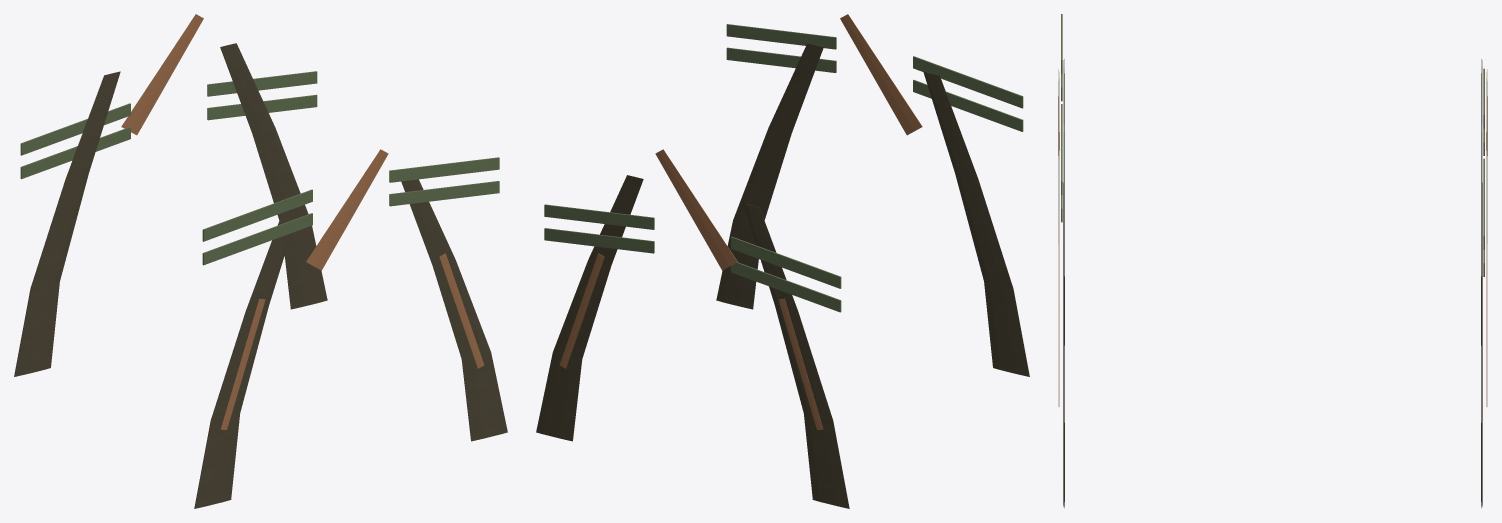
The model's file is rootfall-canopy-relay-0.glb.
The picture shows the model from 3 angles, left to right: view 1: azimuth 30°, elevation 25°; view 2: azimuth 150°, elevation 25°; view 3: azimuth 270°, elevation 25°; orthographic projection. The views are drawn at different scales.
Visible parts, largest first — view 1: rootfall-canopy-relay_LOD0; view 2: rootfall-canopy-relay_LOD0; view 3: rootfall-canopy-relay_LOD0.
Part boxes in pixels (x1,y1,x2,y2): rootfall-canopy-relay_LOD0: [14, 14, 507, 508]; rootfall-canopy-relay_LOD0: [536, 14, 1029, 508]; rootfall-canopy-relay_LOD0: [1058, 14, 1487, 508].
Size of the model in its own units: 0.9741 by 0.9394 by 0.997.
Materials: 3 (3 with a texture image).
